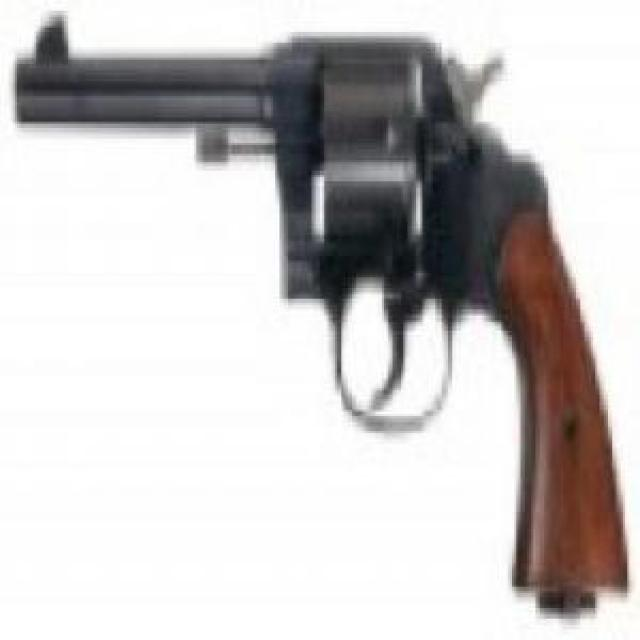pistol: (17, 10, 625, 602)
